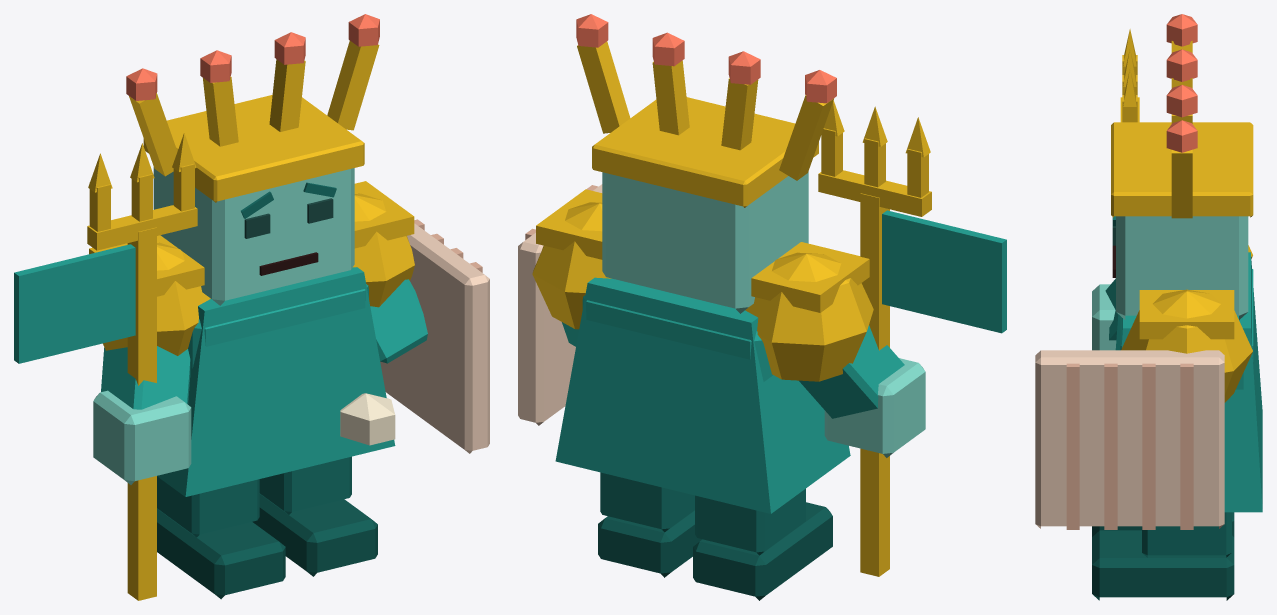
File: r15_mini_triton_commander.glb
3 renders of one model, left to right at view 1: azimuth 30°, elevation 25°; view 2: azimuth 150°, elevation 25°; view 3: azimuth 270°, elevation 25°, orthographic. The views are drawn at different scales.
Visible parts, largest first — view 1: r15_mini_triton_commander_mesh; view 2: r15_mini_triton_commander_mesh; view 3: r15_mini_triton_commander_mesh.
Boxes of the visible parts, x1,y1,x2,y2 form: r15_mini_triton_commander_mesh: (14, 14, 489, 600); r15_mini_triton_commander_mesh: (518, 14, 1006, 600); r15_mini_triton_commander_mesh: (1035, 14, 1262, 600).
Bounding box in the file's own units: 4.1 × 4.6 × 1.9.
1 material, 1 textured.
